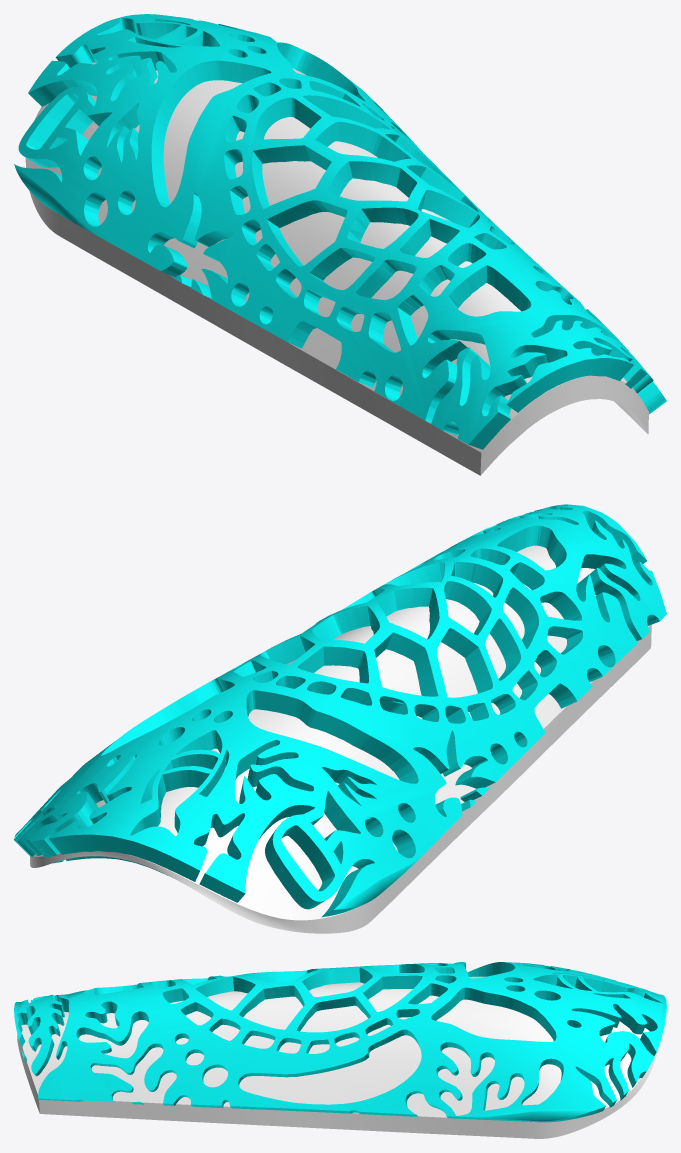
The model's file is turtles-reef-coffin-web.glb.
3 renders of one model, top to bottom at view 1: azimuth 30°, elevation 25°; view 2: azimuth 150°, elevation 25°; view 3: azimuth 270°, elevation 25°, orthographic. The views are drawn at different scales.
Bounding box in the file's own units: 0.0146 × 0.00676 × 0.0354.
